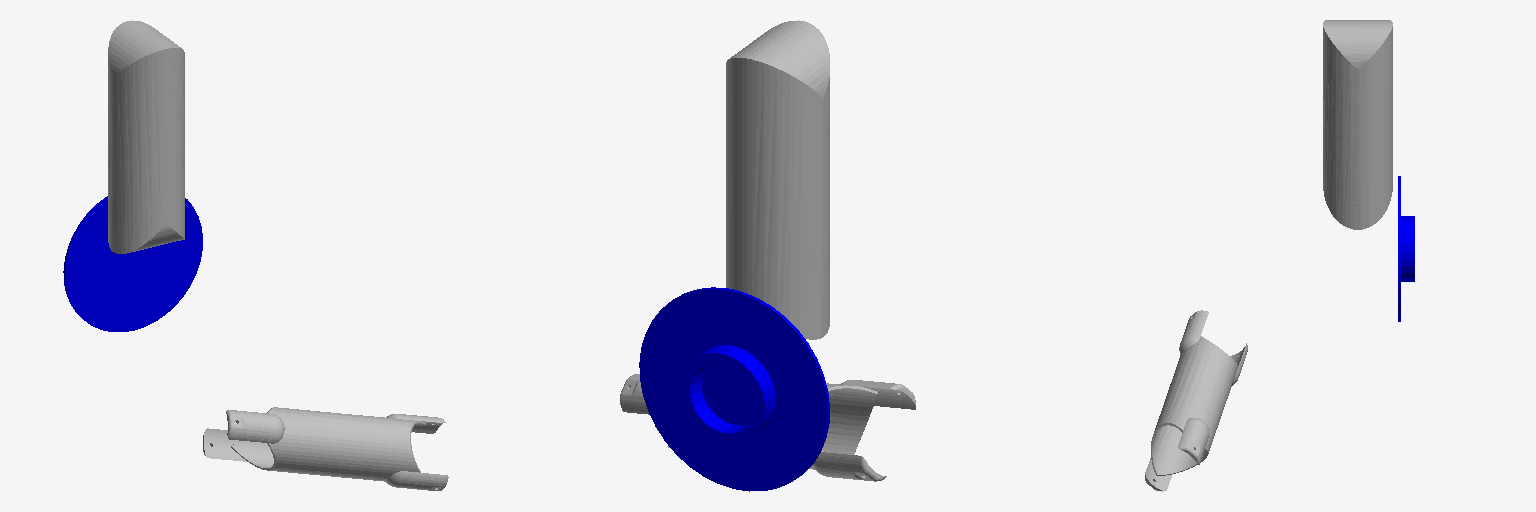
URDF robot description (solidworks_arm):
<!-- Robot -->
<robot
  name="solidworks_arm">
  <link
    name="base_link">
    <inertial>
      <origin
        xyz="-2.94902990916057E-17 -6.24500451351651E-17 0.181672030786973"
        rpy="0 0 0" />
      <mass
        value="0.0450462948917676" />
      <inertia
        ixx="3.73760183746963E-05"
        ixy="0"
        ixz="2.74613028693319E-22"
        iyy="3.73760183746963E-05"
        iyz="8.66790972367195E-22"
        izz="7.33038758972795E-05" />
    </inertial>
    <visual>
      <origin
        xyz="0 0 0"
        rpy="0 0 0" />
      <geometry>
        <mesh
          filename="package://solidworks_arm/meshes/base_link.STL" />
      </geometry>
      <material
        name="">
        <color
          rgba="0 0 1 0.5" />
      </material>
    </visual>
    <collision>
      <origin
        xyz="0 0 0"
        rpy="0 0 0" />
      <geometry>
        <mesh
          filename="package://solidworks_arm/meshes/base_link.STL" />
      </geometry>
    </collision>
  </link>
  <link
    name="link1">
    <inertial>
      <origin
        xyz="0.110757508882432 -8.47840200823846E-12 8.47844537632536E-12"
        rpy="0 0 0" />
      <mass
        value="0.0483304115687852" />
      <inertia
        ixx="3.07104106331661E-05"
        ixy="1.07079537176511E-14"
        ixz="7.54141214012132E-15"
        iyy="0.000113061736454189"
        iyz="-6.58321191851009E-11"
        izz="0.000106106600538171" />
    </inertial>
    <visual>
      <origin
        xyz="0 0 0"
        rpy="0 0 0" />
      <geometry>
        <mesh
          filename="package://solidworks_arm/meshes/link1.STL" />
      </geometry>
      <material
        name="">
        <color
          rgba="0.752941176470588 0.752941176470588 0.752941176470588 1" />
      </material>
    </visual>
    <collision>
      <origin
        xyz="0 0 0"
        rpy="0 0 0" />
      <geometry>
        <mesh
          filename="package://solidworks_arm/meshes/link1.STL" />
      </geometry>
    </collision>
  </link>
  <joint
    name="joint1"
    type="continuous">
    <origin
      xyz="0 0 0.19925"
      rpy="0 1.5708 0" />
    <parent
      link="base_link" />
    <child
      link="link1" />
    <!--axis
      xyz="0.67209 0.74047 0" /-->
    <limit
      lower="0"
      upper="0"
      effort="0"
      velocity="0" />
    <calibration
      rising="0"
      falling="0" />
    <dynamics
      damping="0"
      friction="0" />
    <safety_controller
      soft_upper="0"
      soft_lower="0"
      k_position="0"
      k_velocity="0" />
  </joint>
  <link
    name="link2">
    <inertial>
      <origin
        xyz="0.0943410777393742 3.62997296492196E-08 -8.71315915612625E-07"
        rpy="0 0 0" />
      <mass
        value="0.0585766241134677" />
      <inertia
        ixx="3.84276675879977E-05"
        ixy="1.40403654767025E-09"
        ixz="-1.32150364620235E-09"
        iyy="0.000189618558104886"
        iyz="6.29511422408353E-09"
        izz="0.00018961504010832" />
    </inertial>
    <visual>
      <origin
        xyz="0 0 0"
        rpy="0 0 0" />
      <geometry>
        <mesh
          filename="package://solidworks_arm/meshes/link2.STL" />
      </geometry>
      <material
        name="">
        <color
          rgba="0.752941176470588 0.752941176470588 0.752941176470588 1" />
      </material>
    </visual>
    <collision>
      <origin
        xyz="0 0 0"
        rpy="0 0 0" />
      <geometry>
        <mesh
          filename="package://solidworks_arm/meshes/link2.STL" />
      </geometry>
    </collision>
  </link>
  <joint
    name="joint2"
    type="revolute">
    <origin
      xyz="0.181766743813069 0 0"
      rpy="-1.5707963267949 4.9960036108132E-16 -0.737021408016504" />
    <parent
      link="link1" />
    <child
      link="link2" />
    <axis
      xyz="0 -1 0" />
    <limit effort="30" velocity="1.0" lower="-2.2" upper="0.7" />
  </joint>
  <link
    name="link3">
    <inertial>
      <origin
        xyz="0.0943408937132365 -1.45321293332223E-08 -7.32845611972621E-09"
        rpy="0 0 0" />
      <mass
        value="0.0585762218197753" />
      <inertia
        ixx="3.84277322324291E-05"
        ixy="2.03132266267289E-11"
        ixz="-4.31636297499163E-12"
        iyy="0.000189616393272144"
        iyz="-1.16063851251743E-10"
        izz="0.000189615963649806" />
    </inertial>
    <visual>
      <origin
        xyz="0 0 0"
        rpy="0 0 0" />
      <geometry>
        <mesh
          filename="package://solidworks_arm/meshes/link3.STL" />
      </geometry>
      <material
        name="">
        <color
          rgba="0.752941176470588 0.752941176470588 0.752941176470588 1" />
      </material>
    </visual>
    <collision>
      <origin
        xyz="0 0 0"
        rpy="0 0 0" />
      <geometry>
        <mesh
          filename="package://solidworks_arm/meshes/link3.STL" />
      </geometry>
    </collision>
  </link>
  <joint
    name="joint3"
    type="revolute">
    <origin
      xyz="0.18176674381307 0 0"
      rpy="-1.5707963267949 -4.30211422042248E-16 -1.25226854325902" />
    <parent
      link="link2" />
    <child
      link="link3" />
    <axis
      xyz="0 -1 0" />
    <limit effort="30" velocity="1.0" lower="-2.2" upper="0.7" />
  </joint>
</robot>

--- Facts derived from the render (not from the file) ---
Views: 3 orthographic renders of the robot side by side, from view 1: azimuth 30°, elevation 25°; view 2: azimuth 150°, elevation 25°; view 3: azimuth 270°, elevation 25°.
Robot: solidworks_arm — 4 links, 3 joints (2 revolute, 1 continuous); root link base_link; default pose: every joint at zero.
Visible links, largest first — view 1: link1, link3, base_link; view 2: base_link, link1, link3; view 3: link1, link3, base_link.
Link boxes in pixels (x1=…): link1: x1=108, y1=20, x2=184, y2=253; link3: x1=203, y1=407, x2=448, y2=490; base_link: x1=63, y1=196, x2=202, y2=331; base_link: x1=639, y1=287, x2=829, y2=491; link1: x1=726, y1=20, x2=829, y2=339; link3: x1=620, y1=374, x2=915, y2=481; link1: x1=1323, y1=20, x2=1392, y2=229; link3: x1=1145, y1=310, x2=1247, y2=491; base_link: x1=1398, y1=176, x2=1414, y2=321.
Size in the robot's own frame: 0.2421 by 0.2351 by 0.3695 metres.
Meshes: 4 distinct files referenced, 3 mesh visuals loaded (3 binary STL); not drawn: 1 (reference not matched to a file when rendering).
